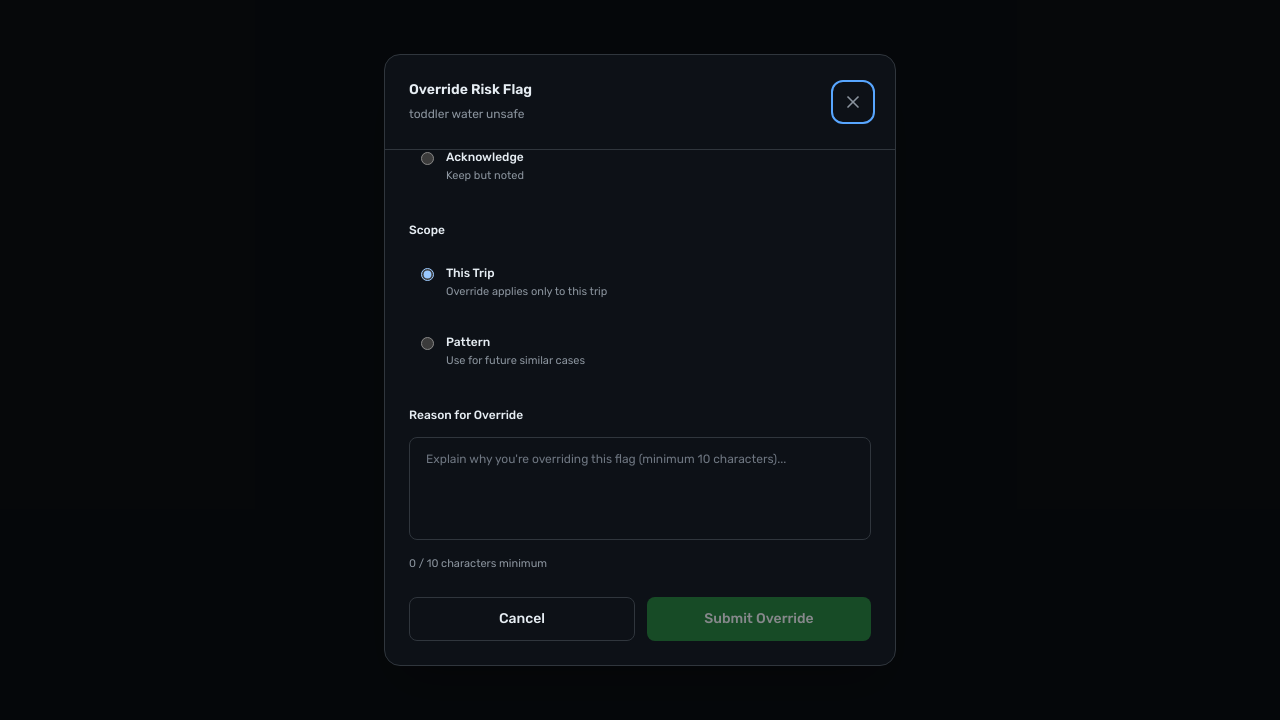
OverrideModal › validates minimum 10 characters for reason
This screenshot has width=1280, height=720.
(page scrolled)
Replace the text in the text box with placeholder "minimum 10 characters" with "short" at (640, 488), box [409,437,871,540]
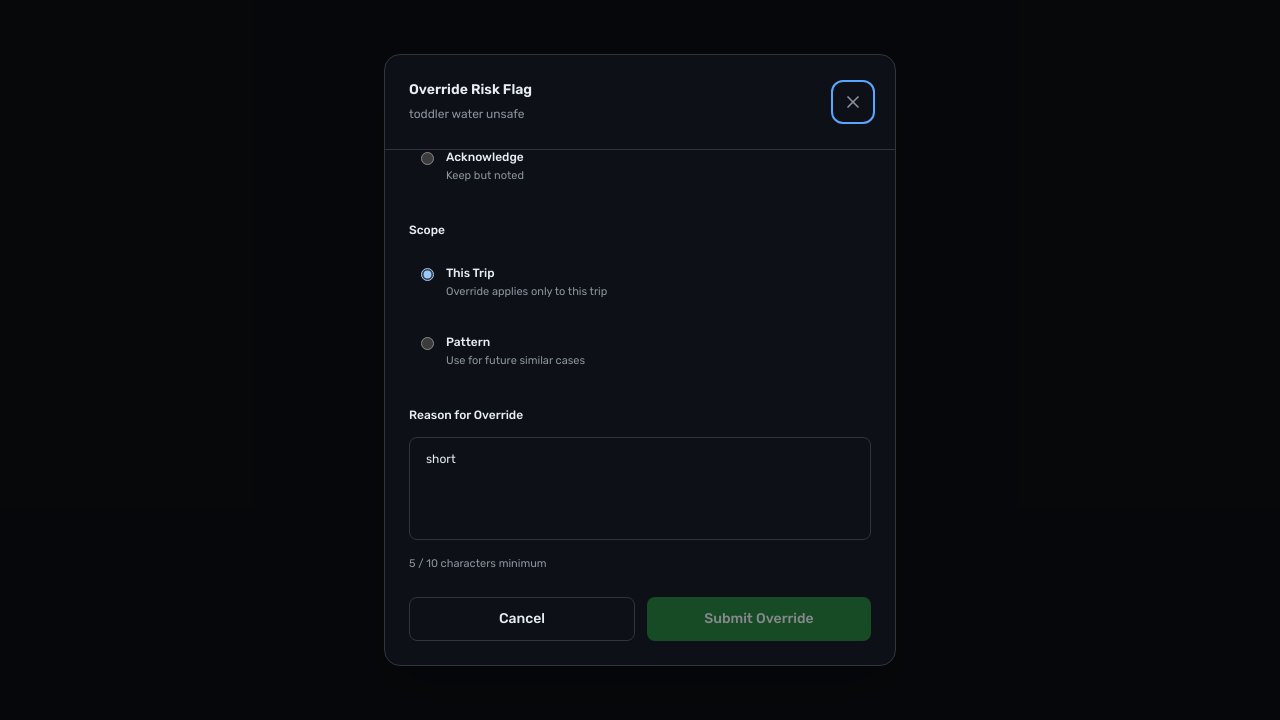
Check: the button "Submit Override" is disabled, box [647,597,871,641]
Replace the text in the text box with placeholder "minimum 10 characters" with "This is a valid reason for override" at (640, 488), box [409,437,871,540]
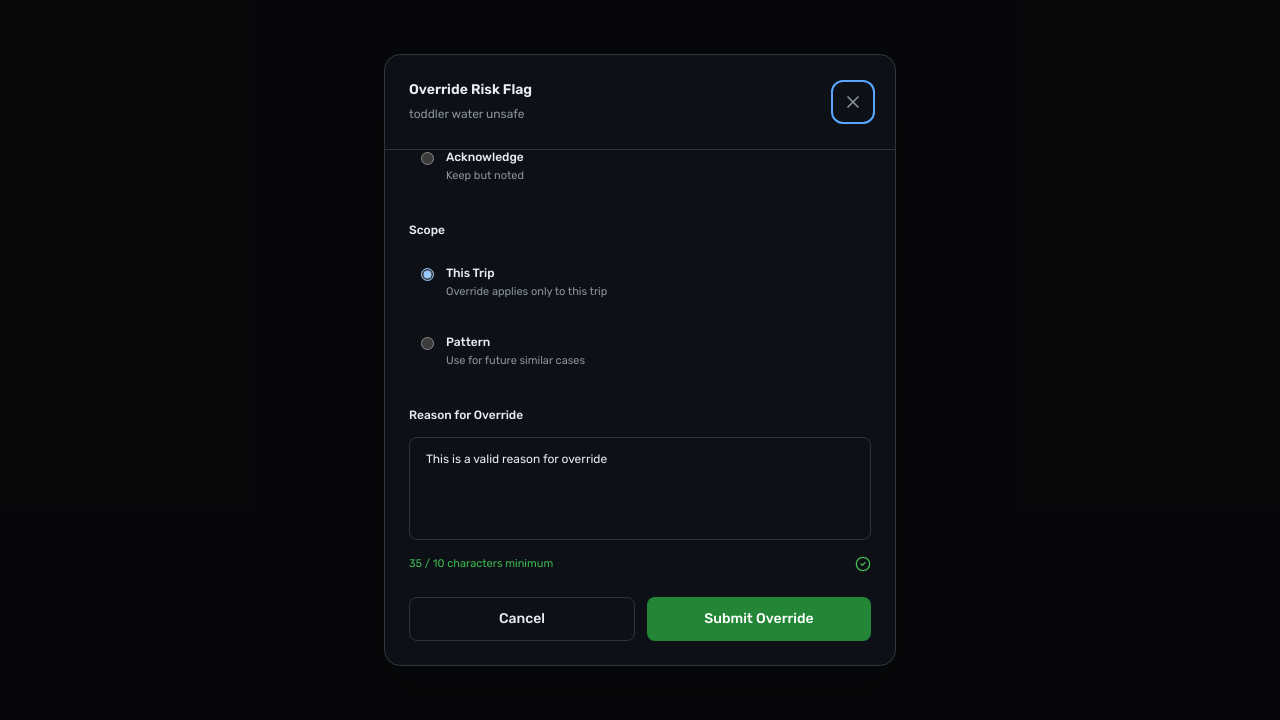
Check: the button "Submit Override" is enabled, box [647,597,871,641]
